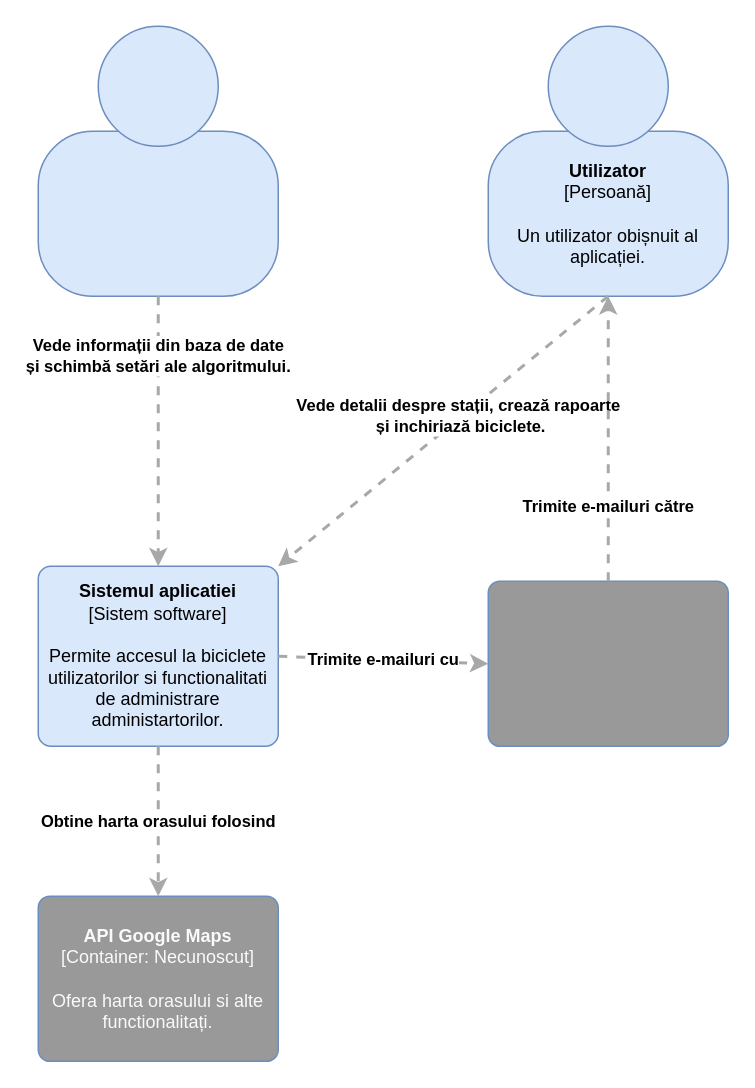
The diagram is 755 pixels wide and 1088 high, and some of its shapes have lost their labels. Each missing label, with the centre of its shape:
"Administrator [Persoană] Un administrator al aplicației." belongs at pixel 157 213.
"Sistem de e-mail [Sistem software] Sistemul ce trimite e-mailuri." belongs at pixel 607 663.
